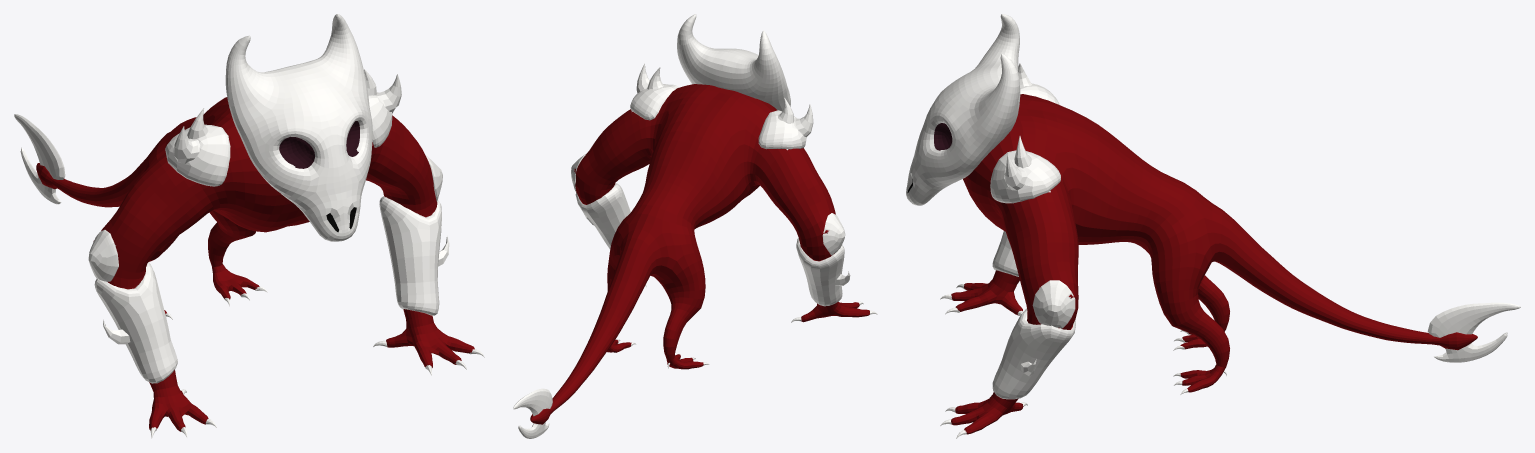
Rendered from SniperColored.fbx.
3 views of the same model, side by side, from view 1: azimuth 30°, elevation 25°; view 2: azimuth 150°, elevation 25°; view 3: azimuth 270°, elevation 25° (orthographic). The views are drawn at different scales.
Parts seen in each view (by area): view 1: sniper_retopo; view 2: sniper_retopo; view 3: sniper_retopo.
Boxes of the visible parts, bbox=[...] form: sniper_retopo: bbox=[14, 14, 484, 438]; sniper_retopo: bbox=[513, 14, 877, 438]; sniper_retopo: bbox=[906, 14, 1520, 438].
Size of the model in its own units: 450 by 434 by 732.
